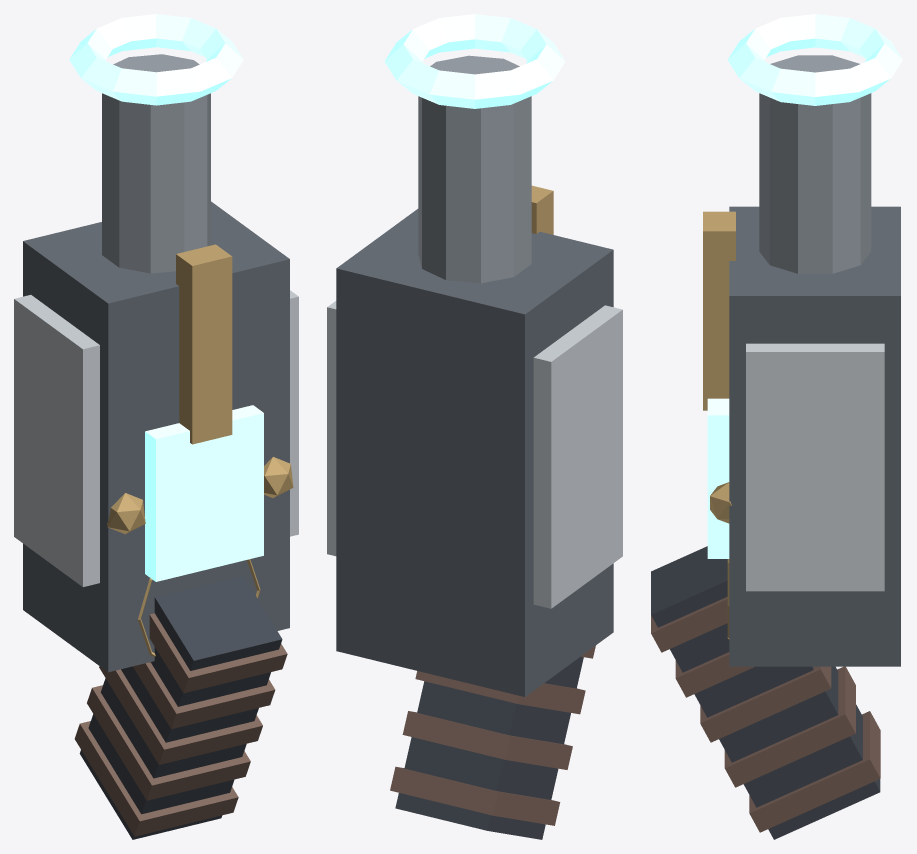
Rendered from photon_sidearm.glb.
3 views of the same model, side by side, from view 1: azimuth 30°, elevation 25°; view 2: azimuth 150°, elevation 25°; view 3: azimuth 270°, elevation 25° (orthographic). The views are drawn at different scales.
Parts seen in each view (by area): view 1: CompactReceiver, ReceiverArmor, PhotonBarrel, InsulatedGripCore, CapacitorWindow, TopSight, BlueMuzzleCrown, GripRib_0, GripRib_1, GripRib_2, GripRib_4, GripRib_3 (+2 smaller); view 2: CompactReceiver, ReceiverArmor, PhotonBarrel, InsulatedGripCore, BlueMuzzleCrown, GripRib_1, GripRib_0, GripRib_2, TopSight; view 3: CompactReceiver, ReceiverArmor, PhotonBarrel, InsulatedGripCore, BlueMuzzleCrown, TopSight, GripRib_1, GripRib_0, GripRib_2, CapacitorWindow, GripRib_4, GripRib_3 (+1 smaller).
Part boxes in pixels (bbox=[...]): CompactReceiver: bbox=[23, 201, 289, 672]; ReceiverArmor: bbox=[14, 290, 298, 586]; PhotonBarrel: bbox=[102, 54, 210, 273]; InsulatedGripCore: bbox=[79, 575, 282, 839]; CapacitorWindow: bbox=[145, 405, 263, 581]; TopSight: bbox=[176, 244, 232, 444]; BlueMuzzleCrown: bbox=[69, 14, 243, 105]; GripRib_0: bbox=[74, 721, 238, 836]; GripRib_1: bbox=[87, 685, 250, 800]; GripRib_2: bbox=[99, 666, 262, 764]; GripRib_4: bbox=[149, 613, 287, 693]; GripRib_3: bbox=[133, 662, 275, 729]; CompactReceiver: bbox=[336, 209, 613, 696]; ReceiverArmor: bbox=[327, 301, 622, 608]; PhotonBarrel: bbox=[418, 55, 531, 283]; InsulatedGripCore: bbox=[395, 656, 583, 839]; BlueMuzzleCrown: bbox=[384, 14, 565, 108]; GripRib_1: bbox=[402, 711, 572, 769]; GripRib_0: bbox=[390, 766, 560, 825]; GripRib_2: bbox=[415, 671, 585, 714]; TopSight: bbox=[531, 185, 553, 234]; CompactReceiver: bbox=[729, 206, 900, 666]; ReceiverArmor: bbox=[746, 343, 884, 591]; PhotonBarrel: bbox=[759, 55, 871, 273]; InsulatedGripCore: bbox=[651, 546, 880, 839]; BlueMuzzleCrown: bbox=[727, 14, 902, 105]; TopSight: bbox=[703, 211, 735, 410]; GripRib_1: bbox=[724, 666, 855, 787]; GripRib_0: bbox=[749, 711, 880, 832]; GripRib_2: bbox=[700, 666, 831, 742]; CapacitorWindow: bbox=[707, 398, 729, 558]; GripRib_4: bbox=[651, 596, 727, 652]; GripRib_3: bbox=[675, 652, 754, 697].
Size of the model in its own units: 0.38 by 1.3 by 0.382.
